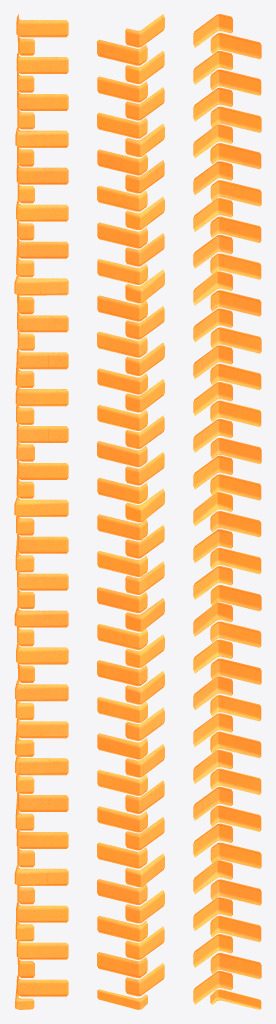
The model's file is SM_BrickEdge_01a.fbx.
3 views of the same model, side by side, from view 1: azimuth 90°, elevation 25°; view 2: azimuth 150°, elevation 25°; view 3: azimuth 330°, elevation 25° (orthographic).
Visible parts, largest first — view 1: SM_BrickEdge_01a_LOD0; view 2: SM_BrickEdge_01a_LOD0; view 3: SM_BrickEdge_01a_LOD0.
Part boxes in pixels (x1,y1,x2,y2): SM_BrickEdge_01a_LOD0: [14, 14, 68, 1009]; SM_BrickEdge_01a_LOD0: [97, 14, 164, 1009]; SM_BrickEdge_01a_LOD0: [193, 14, 261, 1009].
Bounding box in the file's own units: 19.71 × 19.48 × 391.
